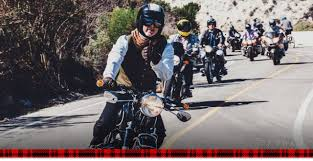helmet: (133, 3, 167, 45), (174, 15, 193, 40), (202, 17, 222, 33)
